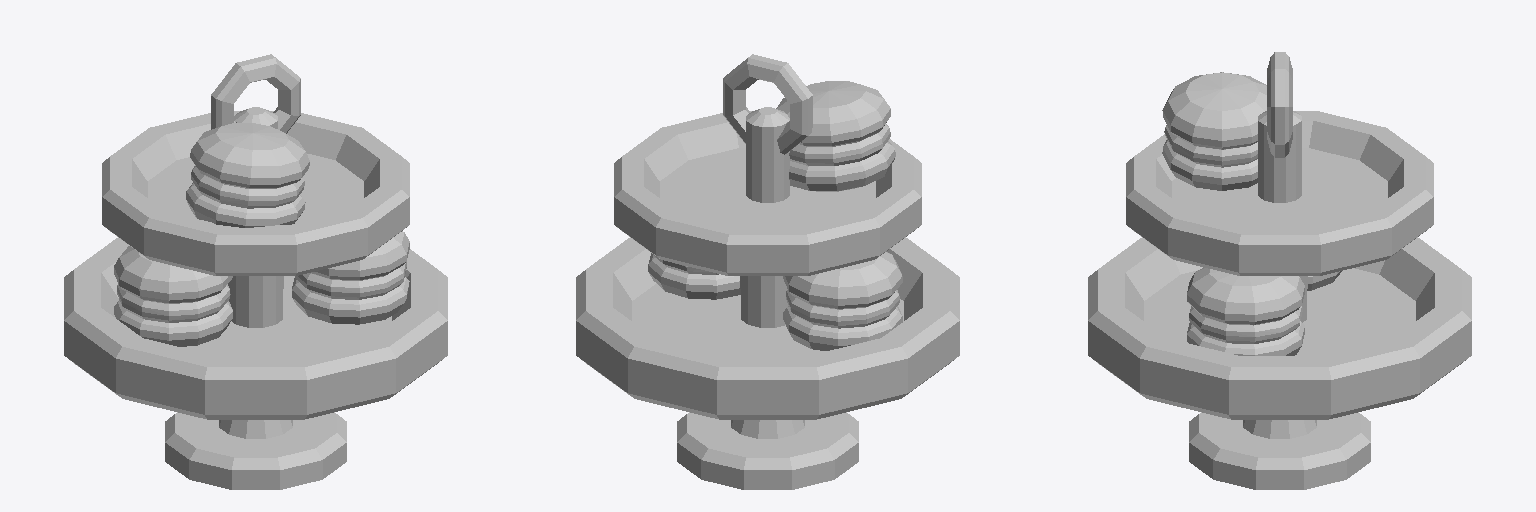
The model's file is pastry_stand_B_decorated.obj.
3 renders of one model, left to right at view 1: azimuth 30°, elevation 25°; view 2: azimuth 150°, elevation 25°; view 3: azimuth 270°, elevation 25°, orthographic.
Parts seen in each view (by area): view 1: pastry_stand_B_decorated; view 2: pastry_stand_B_decorated; view 3: pastry_stand_B_decorated.
Boxes of the visible parts, <box> form: pastry_stand_B_decorated: <box>64,54,447,489</box>; pastry_stand_B_decorated: <box>576,54,959,489</box>; pastry_stand_B_decorated: <box>1088,52,1471,489</box>.
Bounding box in the file's own units: 0.8 × 0.9 × 0.8.